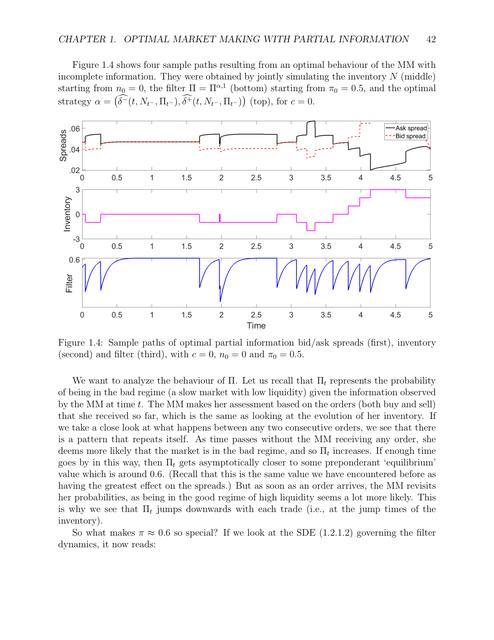box: (57, 116, 435, 331)
